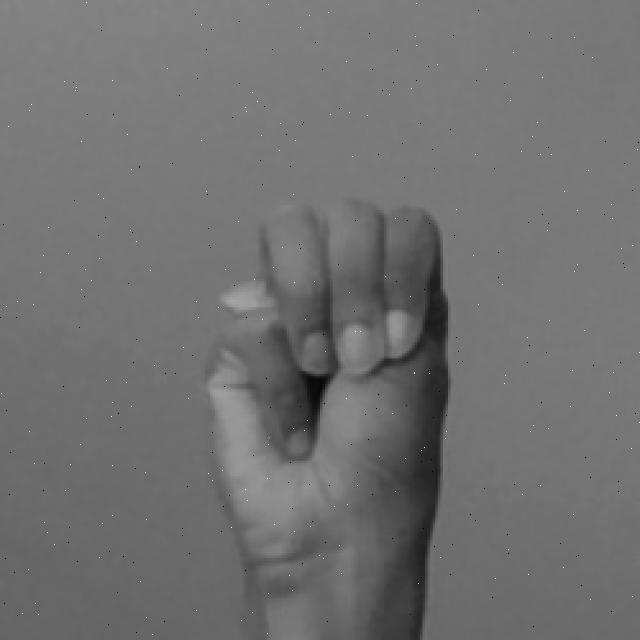M: (189, 191, 460, 640)
